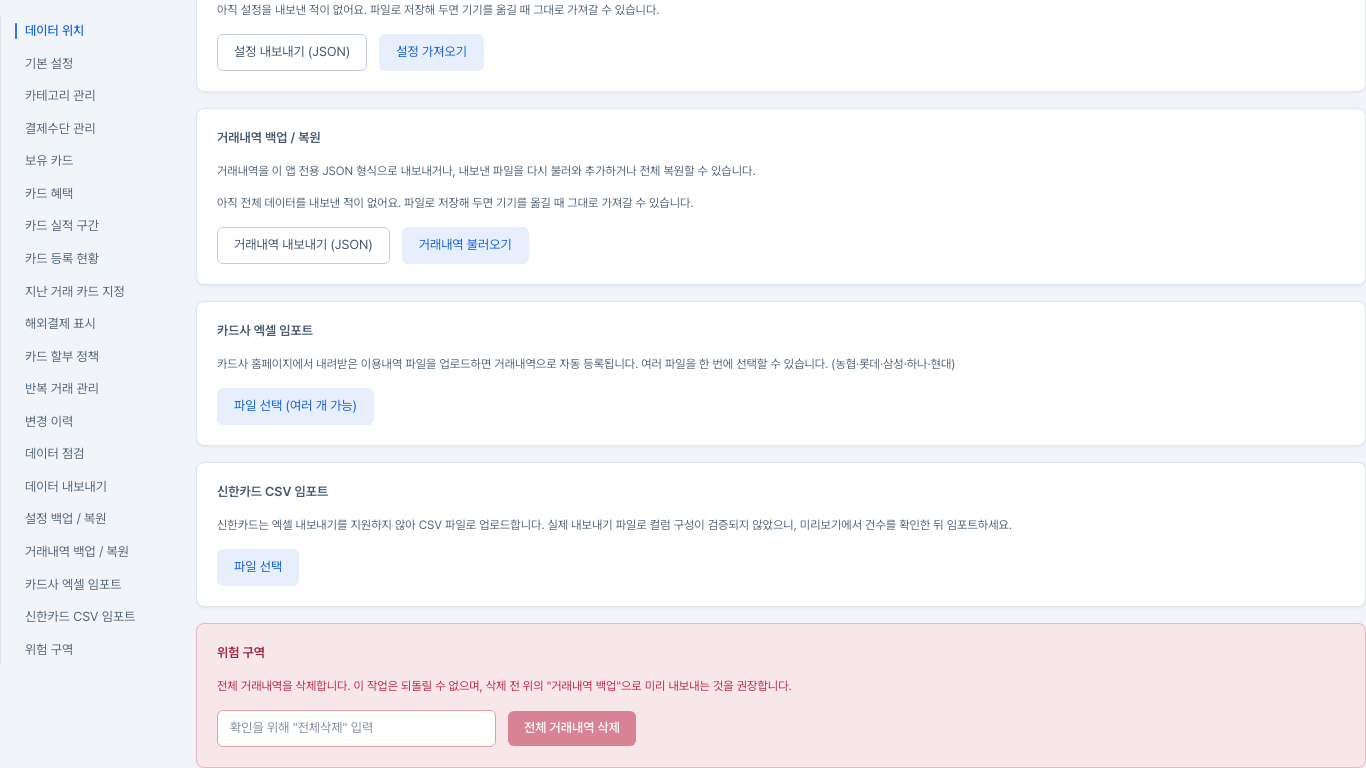
Test: 삭제 실행 › 삭제한 건수를 알린다
(page scrolled)
Type "전체삭제" into the field at (356, 729), box [217, 710, 496, 747]
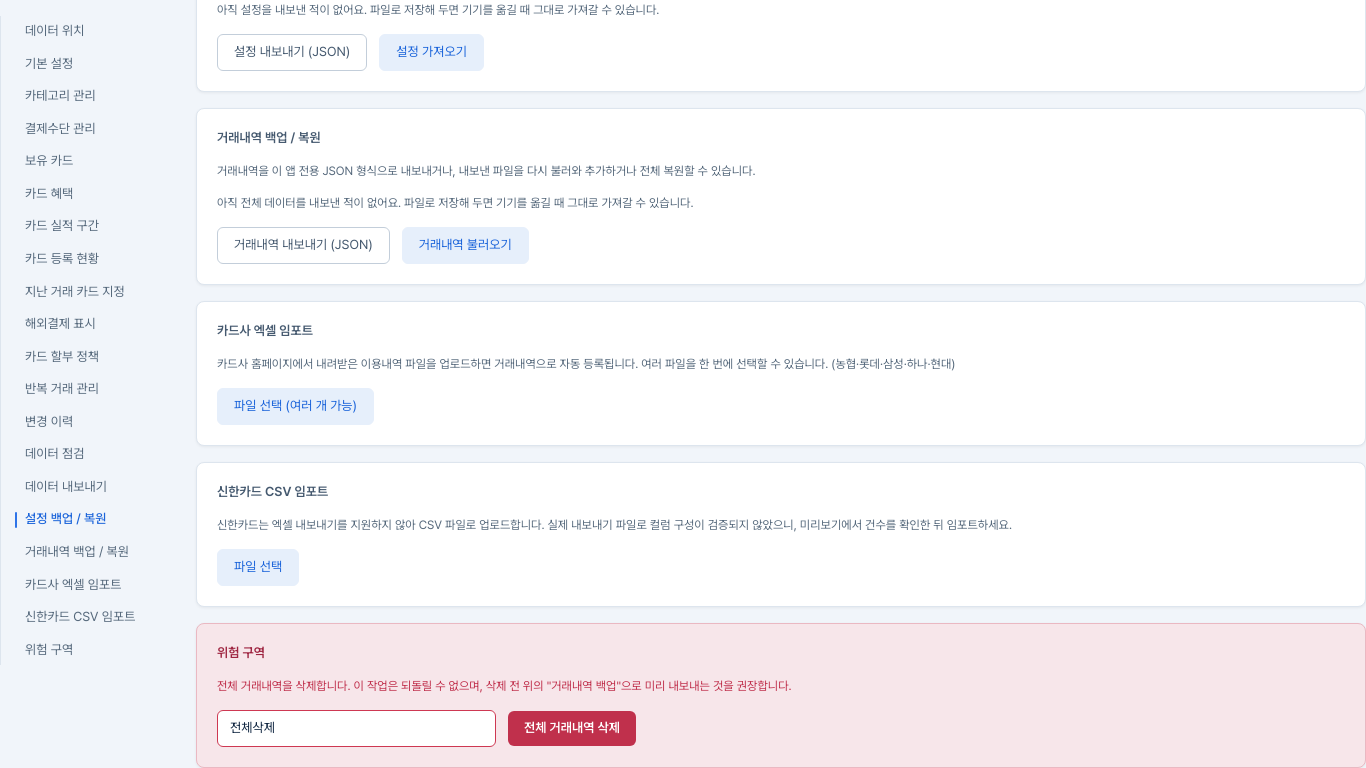
Click the button "전체 거래내역 삭제" at (572, 729), box [508, 711, 636, 746]
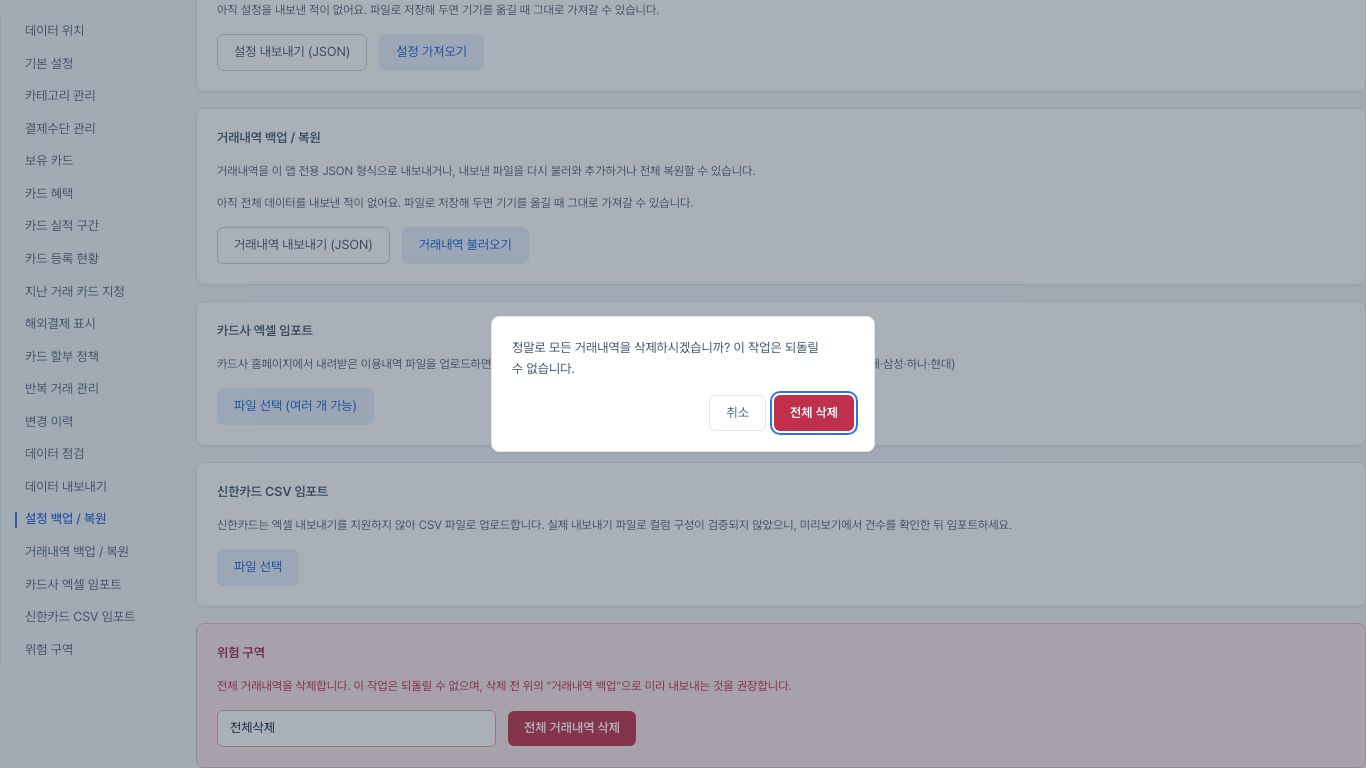
Click the button "전체 삭제" at (814, 413), box [774, 395, 854, 431]
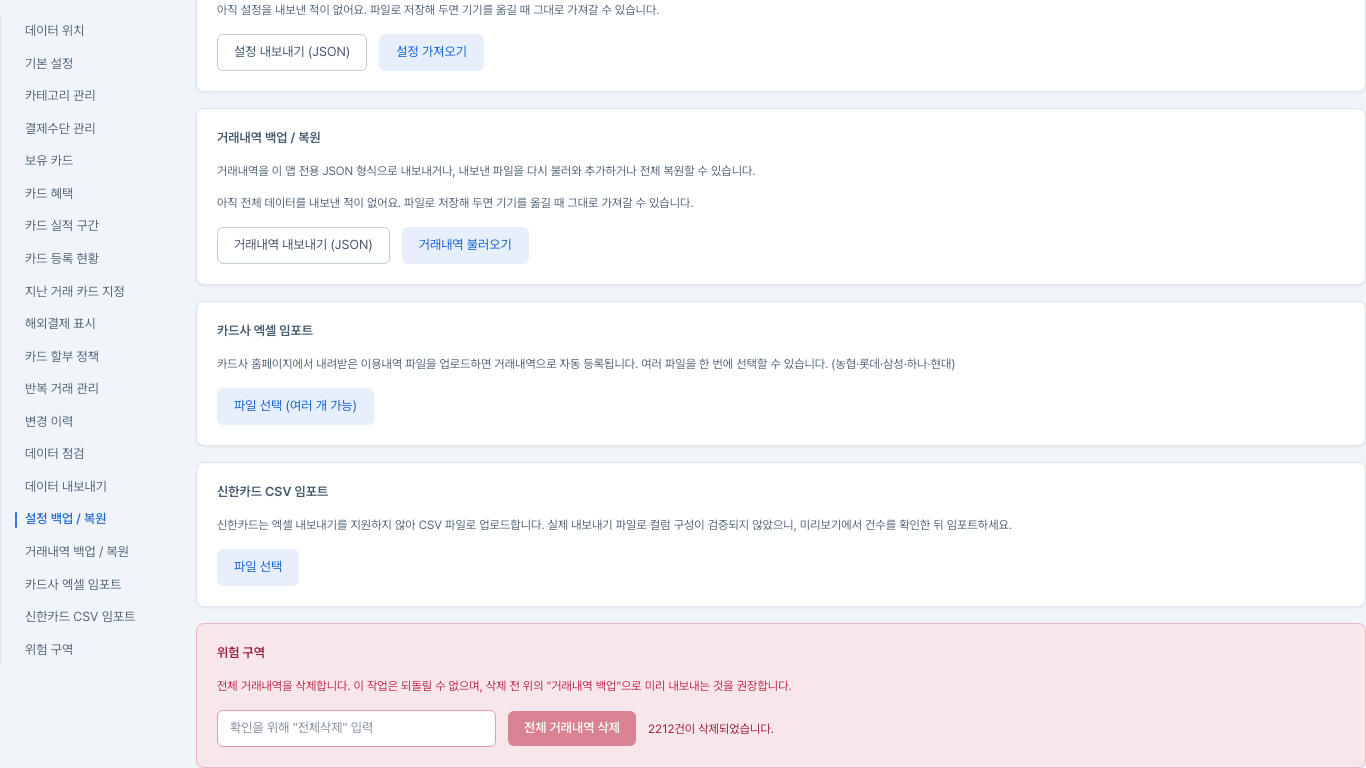
Check: the text "2212건이 삭제되었습니다." is shown, box [648, 721, 774, 737]
